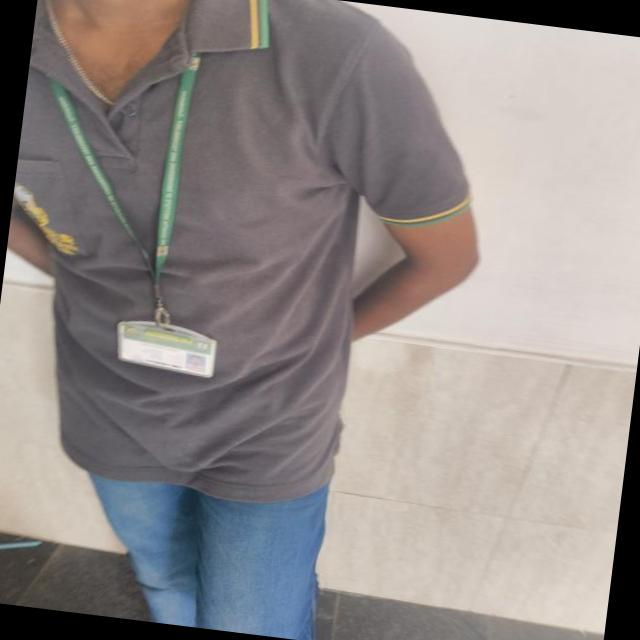id_card: (25, 38, 252, 380)
